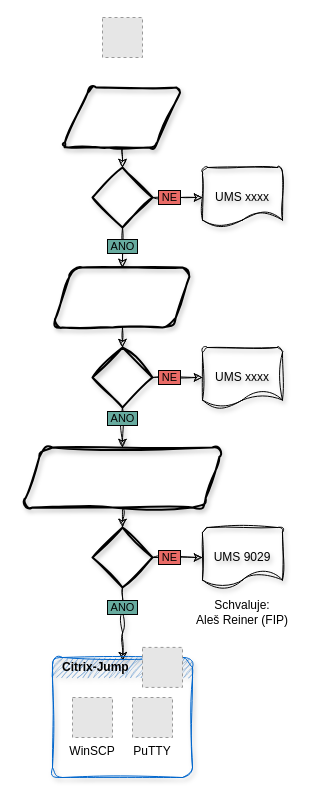
This 309x802 diagram has some shape labels left out. Grey dashed boxes stand in for pictures. Here are the shapes that lost their labels. From the top down, the centre of each, then its label:
the point at 123,118: účet LDAP-JUMP
the point at 123,298: skupina Skoda App CITRIX APP-ADMIN
the point at 123,478: skupina LDAP-JUMP app.srv.VISIONSFTP.ADMINS
